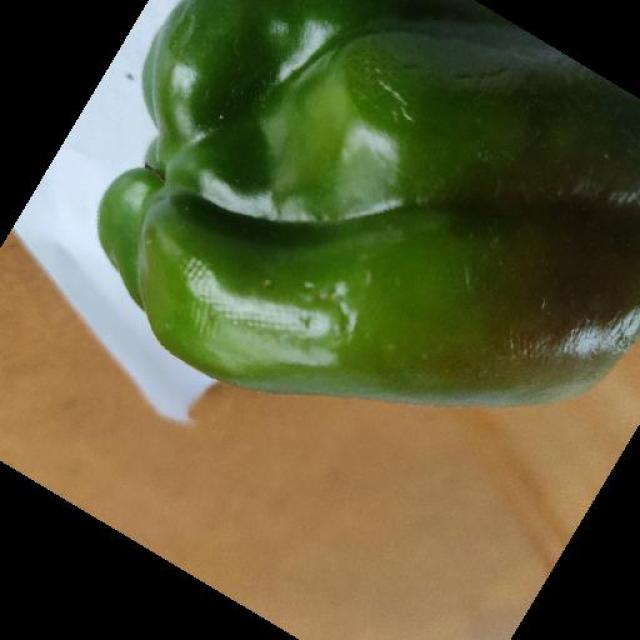Stale_Capsicum: (126, 12, 640, 348)
